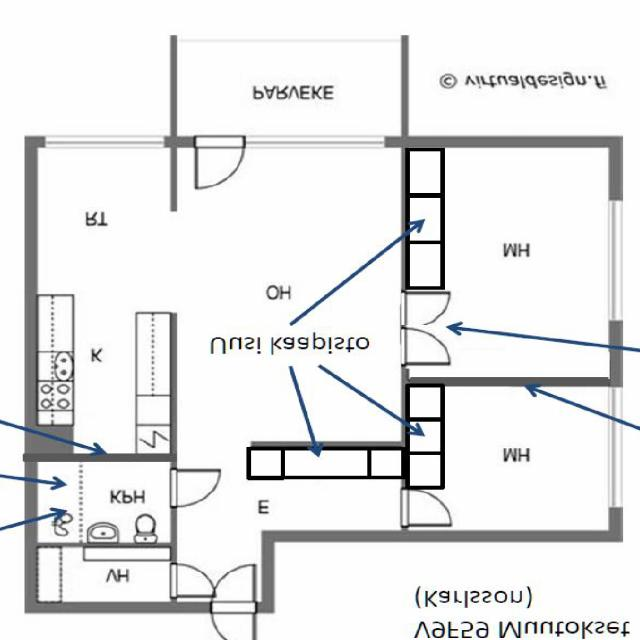door: (197, 136, 244, 188), (212, 566, 256, 612), (402, 328, 450, 364), (402, 292, 450, 328), (402, 489, 450, 525), (171, 471, 220, 506), (212, 603, 256, 640), (171, 563, 217, 596)
